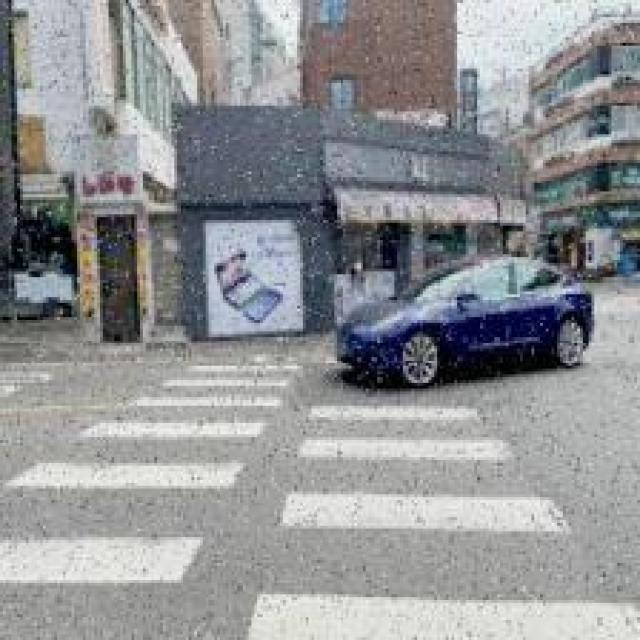crosswalk: (0, 356, 640, 638)
